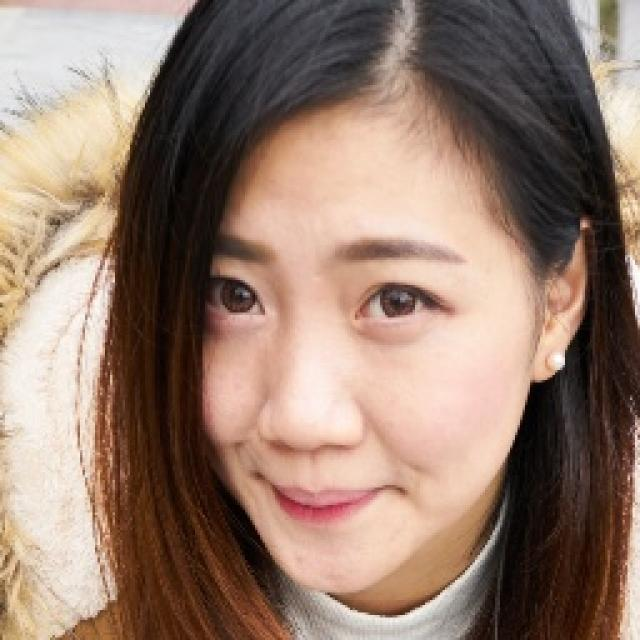earlobe: (530, 216, 597, 384)
